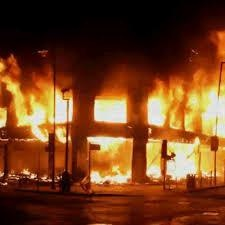fire: (0, 50, 75, 142)
